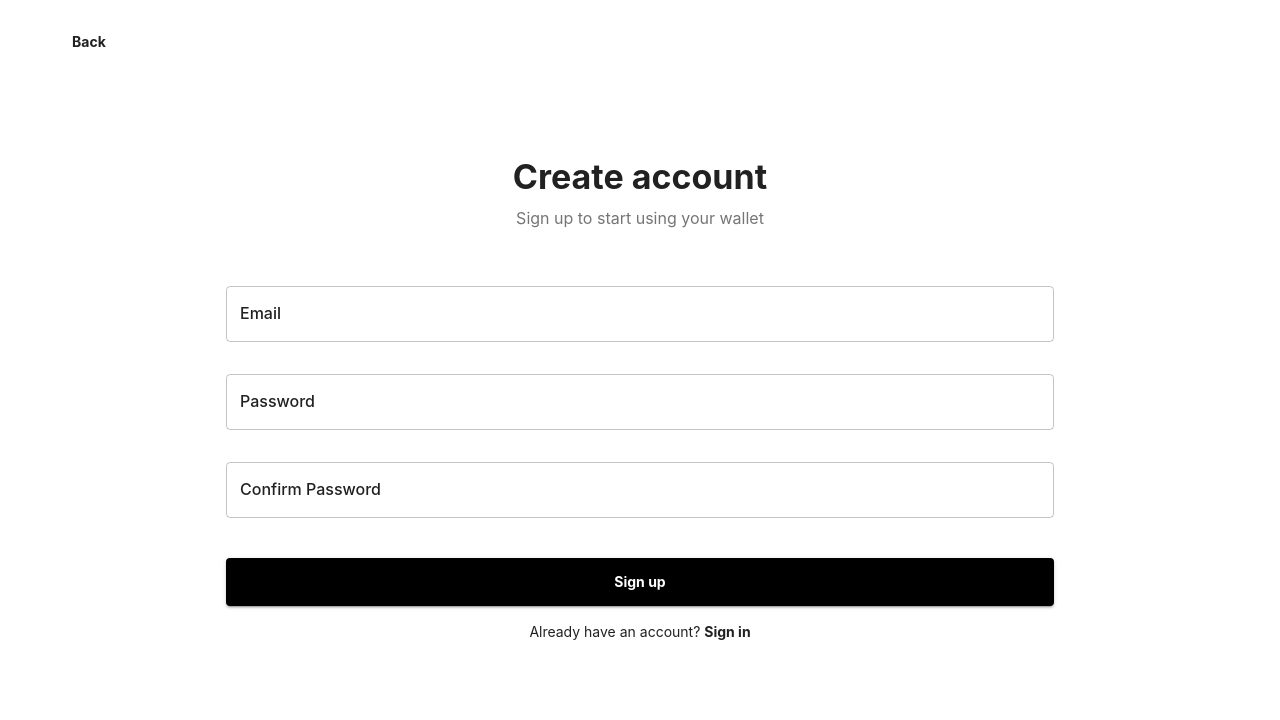
Test case: Register Page › shows validation errors when submitting empty form
Click the button "Sign up".
click(640, 583)  # box top-left (226, 558), bottom-right (1054, 607)
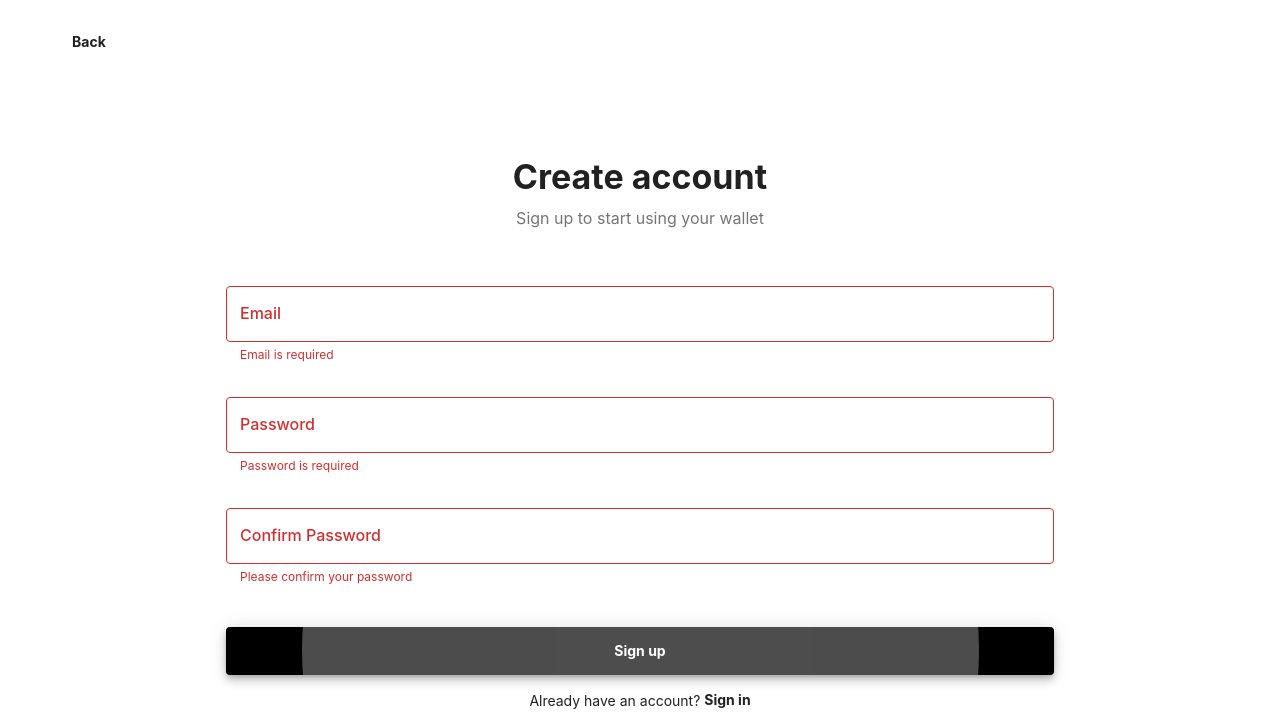
Now the text "Email is required" is shown, box top-left (240, 347), bottom-right (334, 362)
Now the text "Password is required" is shown, box top-left (240, 458), bottom-right (359, 473)
Now the text "Please confirm your password" is shown, box top-left (240, 569), bottom-right (412, 584)
